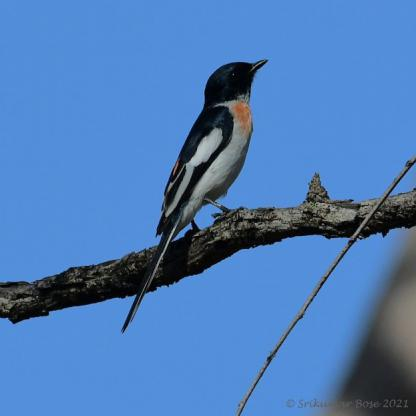Burung: (122, 60, 267, 331)
